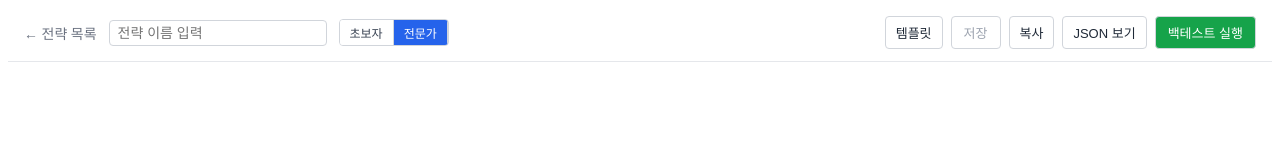
StrategyHeader › 백테스트 실행 — savedStrategyId 없고 canSave=false → 에러 메시지
What coordinates should you click on to do the following:
click the button labelled "백테스트 실행"
I would click on:
 (1205, 32)
Its box is [1155,16,1256,49].
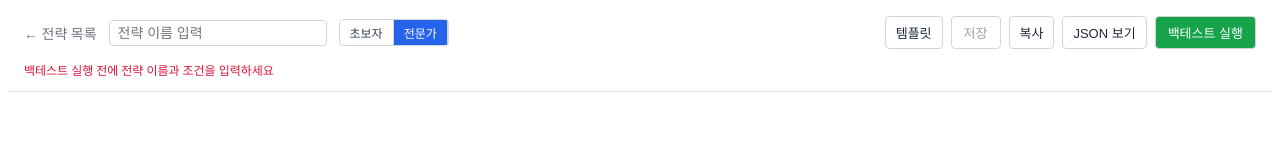
Check: the text "백테스트 실행 전에 전략 이름과 조건을 입력하세요" is shown, box [24,64,274,78]
